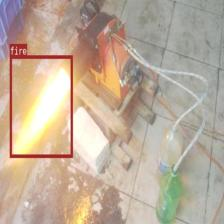fire: (10, 55, 72, 157)
